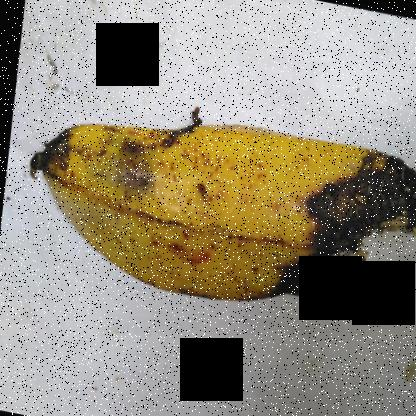rotten: (27, 65, 222, 223), (259, 122, 415, 304)
